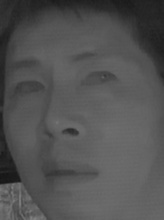eye: (76, 65, 117, 93), (10, 76, 46, 101)
mouth: (35, 151, 99, 195)
